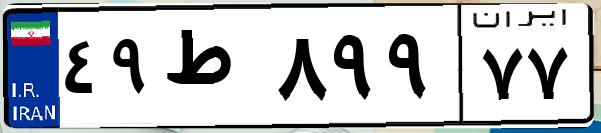4: (57, 26, 110, 100)
7: (475, 38, 525, 113), (525, 38, 570, 115)
8: (270, 28, 330, 110)
9: (385, 28, 445, 110), (330, 28, 385, 110), (110, 28, 158, 98)
ط: (158, 20, 270, 120)
